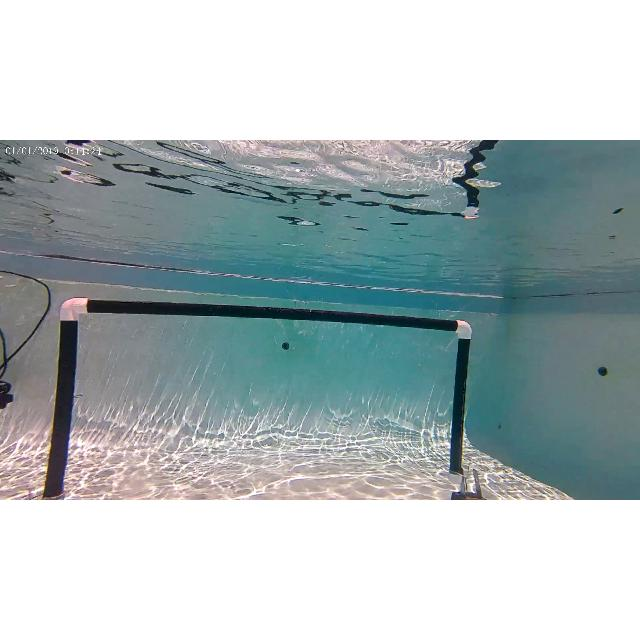prequal gate: (42, 297, 472, 497)
prequal gate leg l: (42, 294, 88, 500)
prequal gate leg r: (440, 313, 488, 499)
